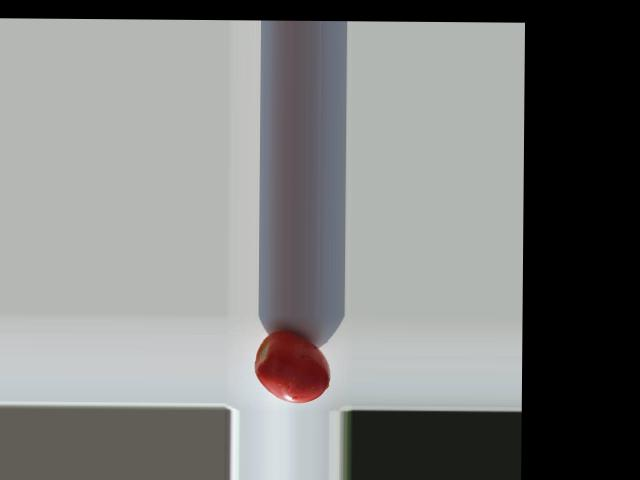tomato: (254, 330, 330, 403)
